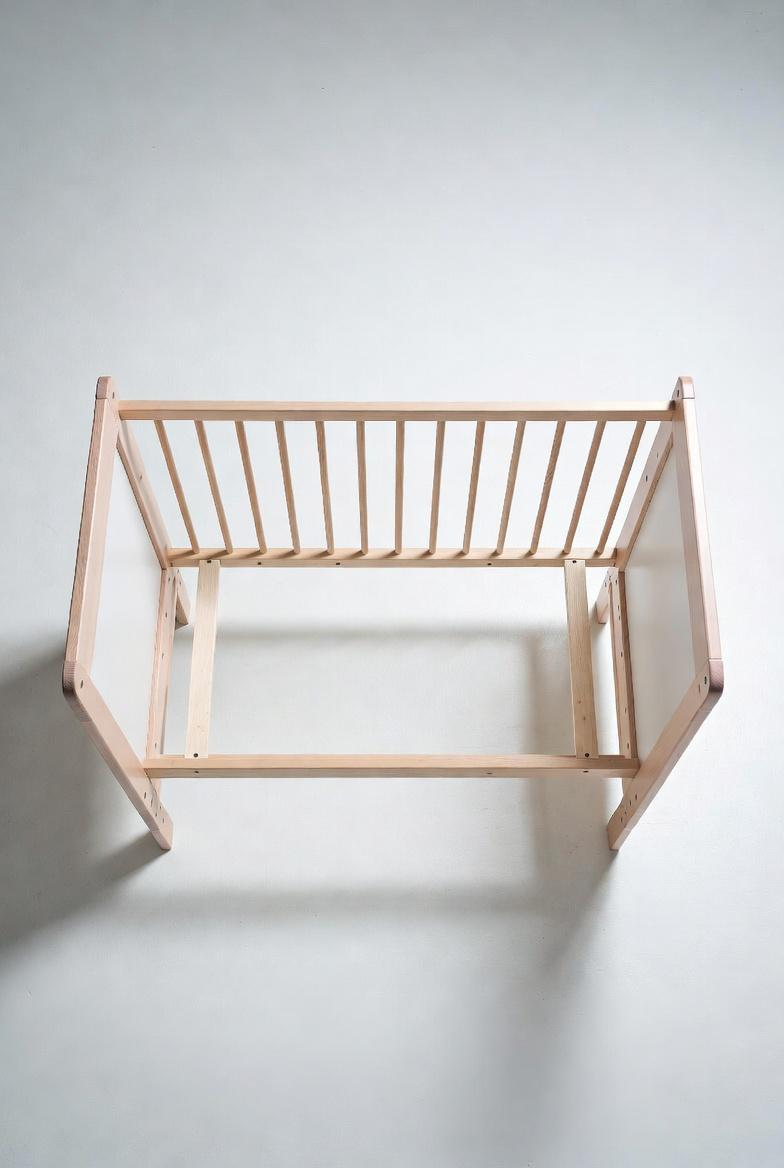crib: (63, 378, 723, 848)
